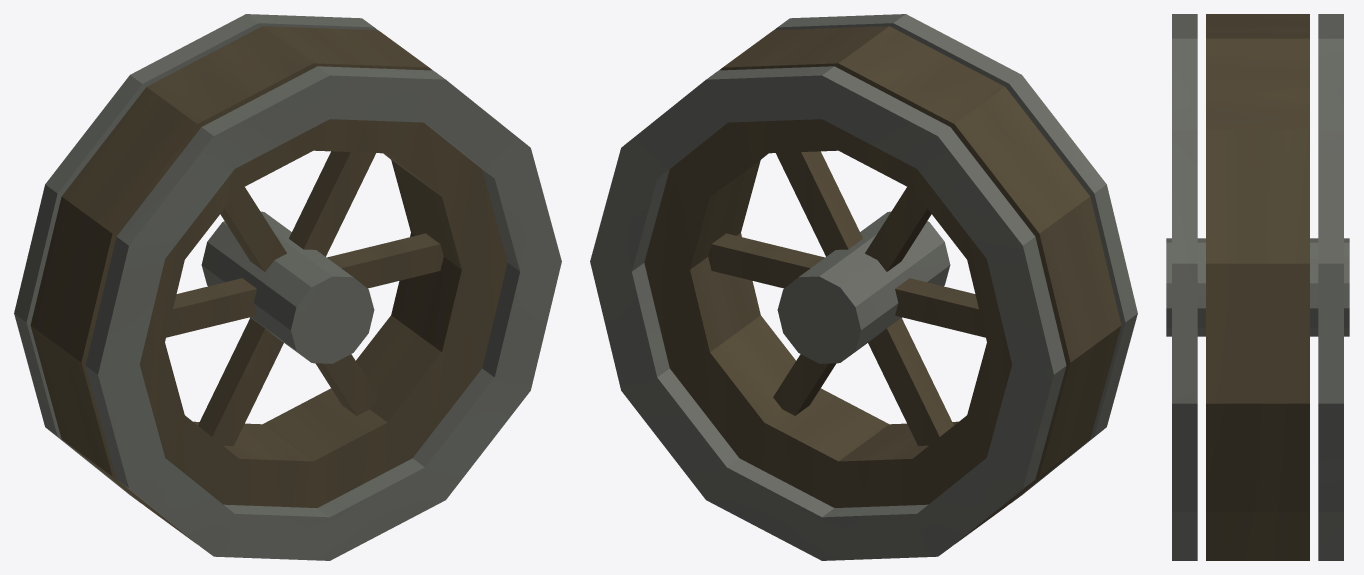
Rendered from WarrensC_WVC014_HoistPulley_Mars_SM.fbx.
3 views of the same model, side by side, from view 1: azimuth 30°, elevation 25°; view 2: azimuth 150°, elevation 25°; view 3: azimuth 270°, elevation 25° (orthographic). The views are drawn at different scales.
Visible parts, largest first — view 1: WarrensC_WVC014_HoistPulley_Mars_SM.001; view 2: WarrensC_WVC014_HoistPulley_Mars_SM.001; view 3: WarrensC_WVC014_HoistPulley_Mars_SM.001.
Boxes of the visible parts, <box> form: WarrensC_WVC014_HoistPulley_Mars_SM.001: <box>14,14,561,560</box>; WarrensC_WVC014_HoistPulley_Mars_SM.001: <box>590,14,1137,560</box>; WarrensC_WVC014_HoistPulley_Mars_SM.001: <box>1166,14,1349,560</box>.
Bounding box in the file's own units: 90 × 30 × 90.
